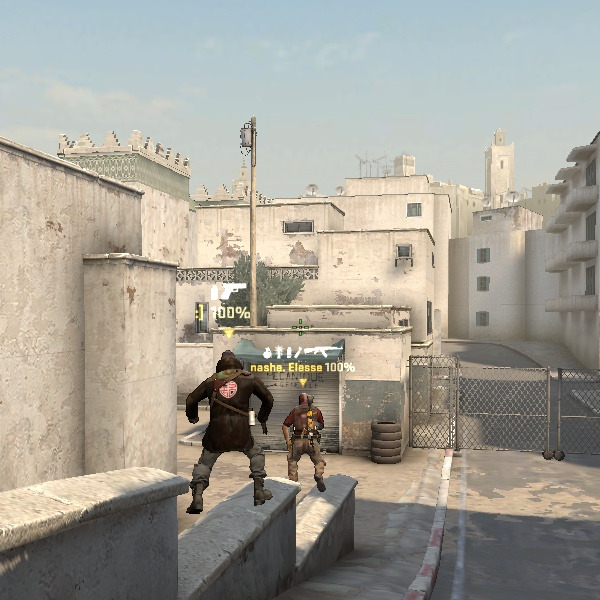t_body: (176, 351, 284, 515), (283, 389, 333, 489)
t_head: (207, 343, 253, 384), (295, 390, 318, 412)
